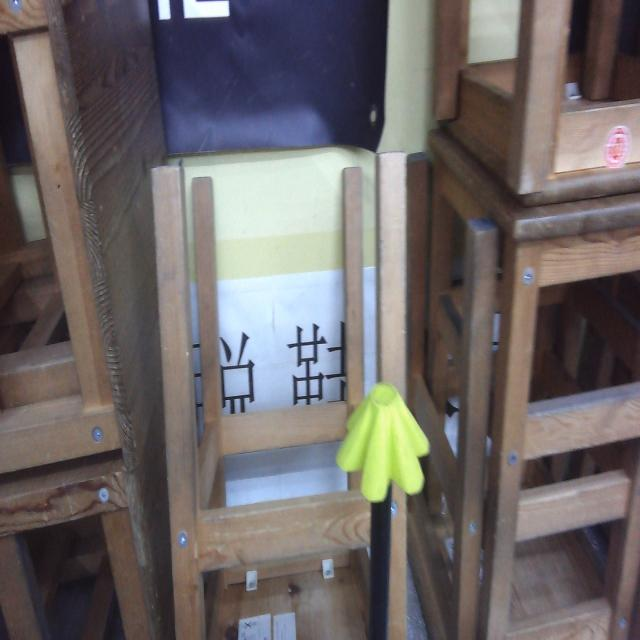Yellow-Stake-Head: (335, 382, 430, 501)
